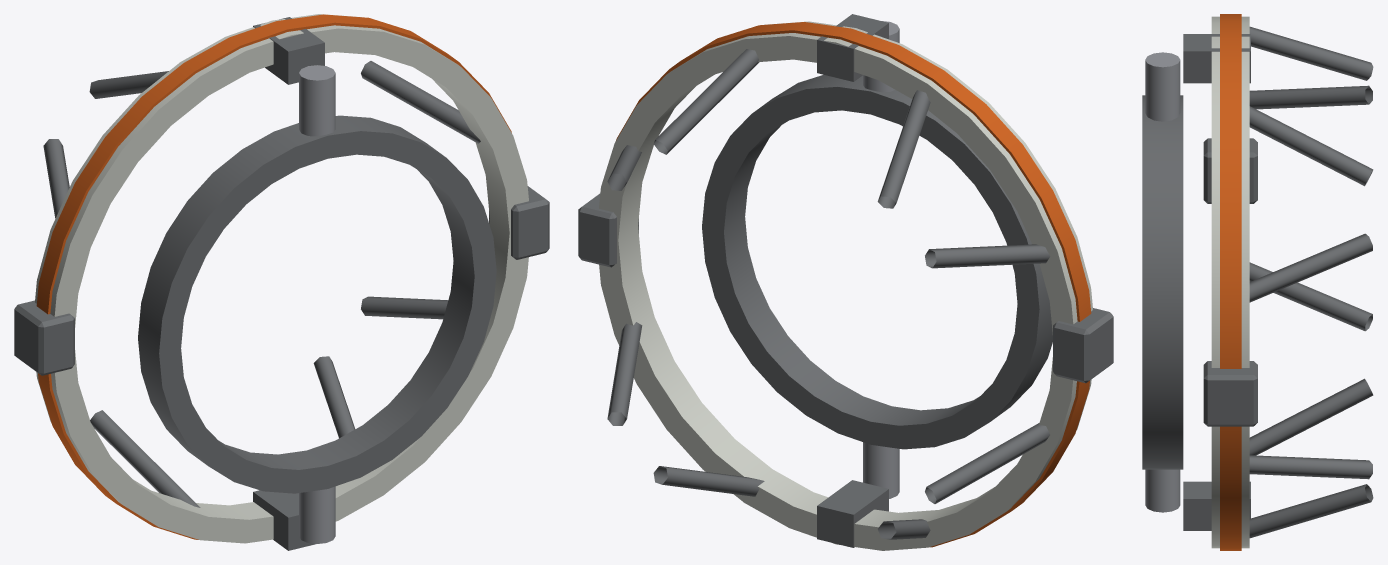
File: u65m_interstage.obj
3 views of the same model, side by side, from view 1: azimuth 30°, elevation 25°; view 2: azimuth 150°, elevation 25°; view 3: azimuth 270°, elevation 25° (orthographic). The views are drawn at different scales.
Parts seen in each view (by area): view 1: u65m_interstage; view 2: u65m_interstage; view 3: u65m_interstage.
Boxes of the visible parts, box(x1,y1,x2,y2) form: u65m_interstage: box(14, 14, 549, 550); u65m_interstage: box(578, 14, 1113, 550); u65m_interstage: box(1142, 14, 1373, 550).
Bounding box in the file's own units: 4.18 × 3.96 × 1.7.
